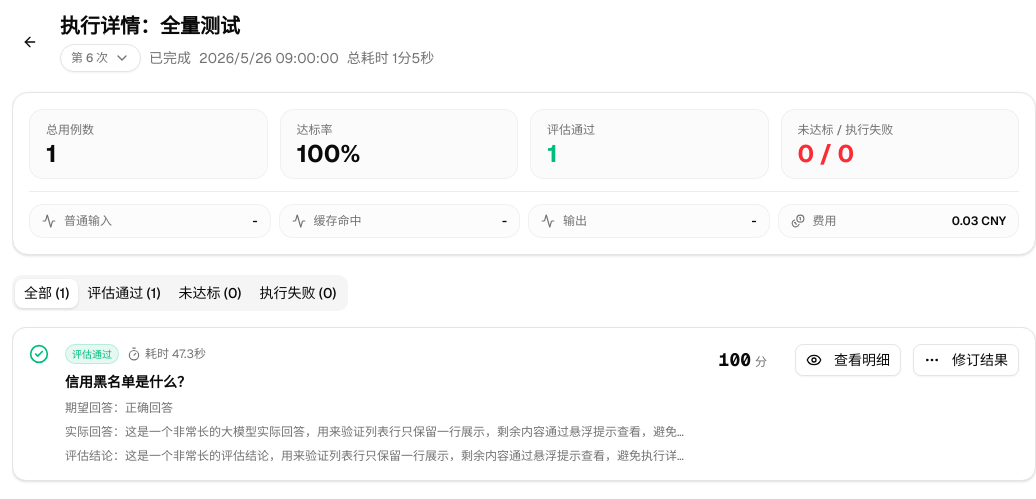
Test: AppHistoryDetail › keeps completed passed runs compact and avoids redundant actions
The image size is (1036, 499).
Check: the text "信用黑名单是什么？" is shown, box [65,373,191,391]
Check: the text "总耗时 1分5秒" is shown, box [347,48,434,68]
Step 1. Press the mouse on the button with aria-label "修订结果：信用黑名单是什么？" → coordinates (966, 360), box [913,344,1019,376]
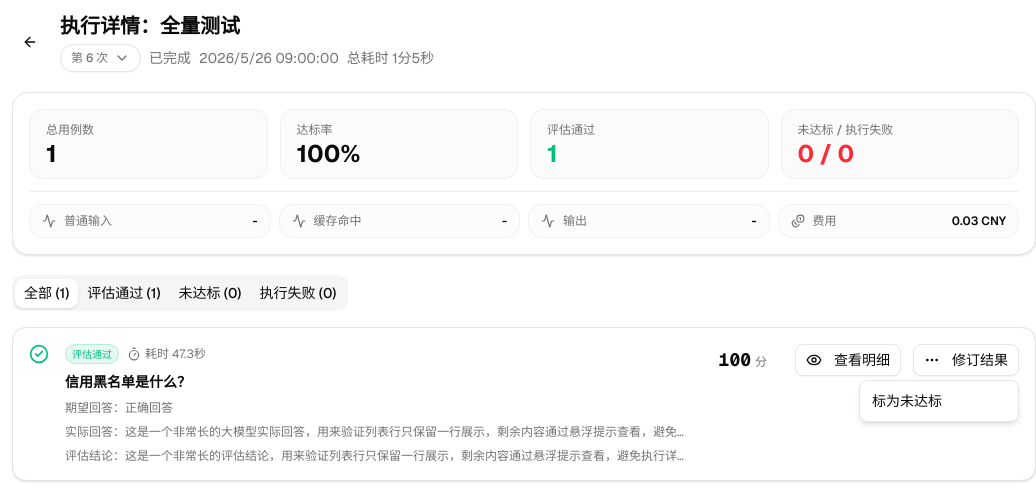
Check: the menu item "标为未达标" is shown, box [872,392,942,410]
